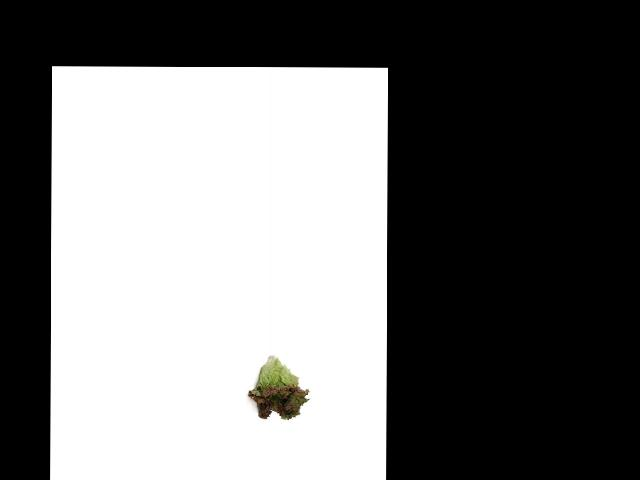lettuce: (242, 353, 312, 428)
